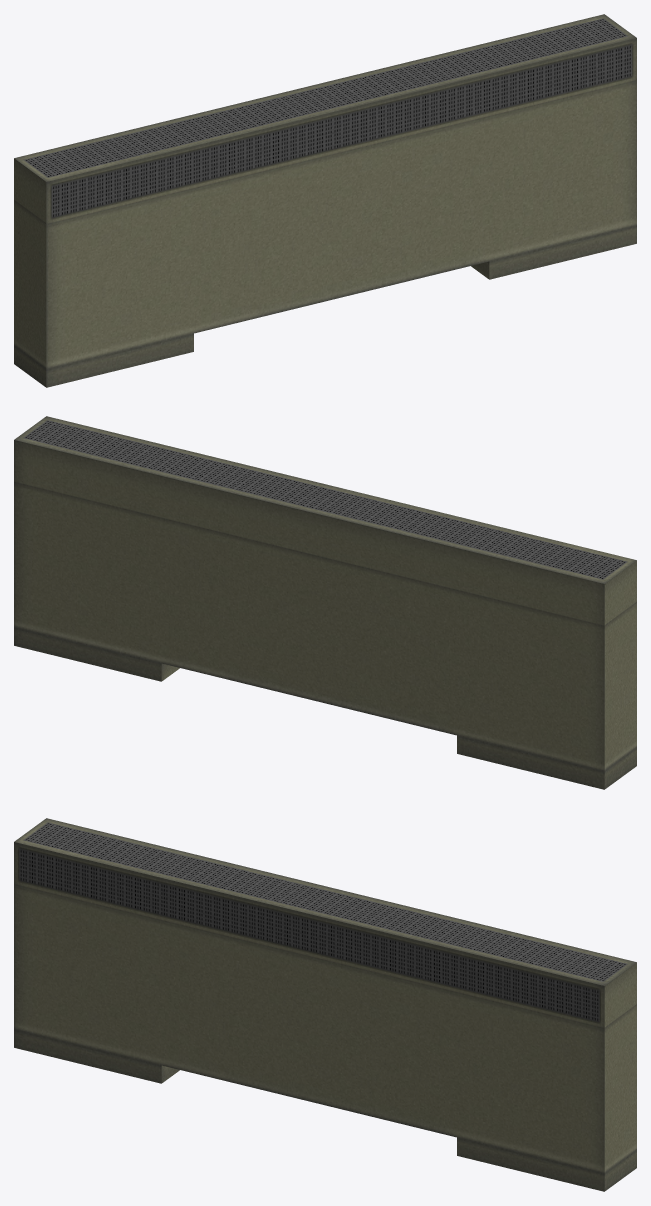
File: Heater.FBX
The picture shows the model from 3 angles, top to bottom: view 1: azimuth 30°, elevation 25°; view 2: azimuth 150°, elevation 25°; view 3: azimuth 330°, elevation 25°; orthographic projection.
Parts seen in each view (by area): view 1: Heater001; view 2: Heater001; view 3: Heater001.
Part boxes in pixels (x1,y1,x2,y2): Heater001: (14,14,636,387); Heater001: (14,416,636,789); Heater001: (14,818,636,1191).
Bounding box in the file's own units: 244 × 81.44 × 23.28.
